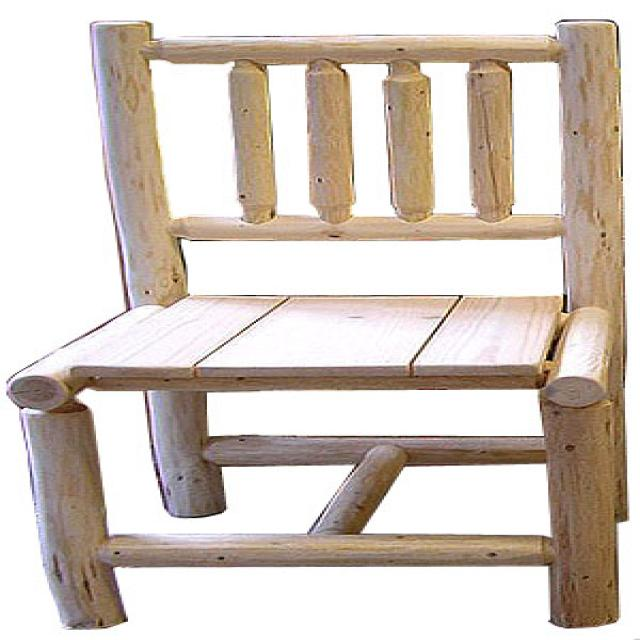chair: (9, 20, 627, 628)
